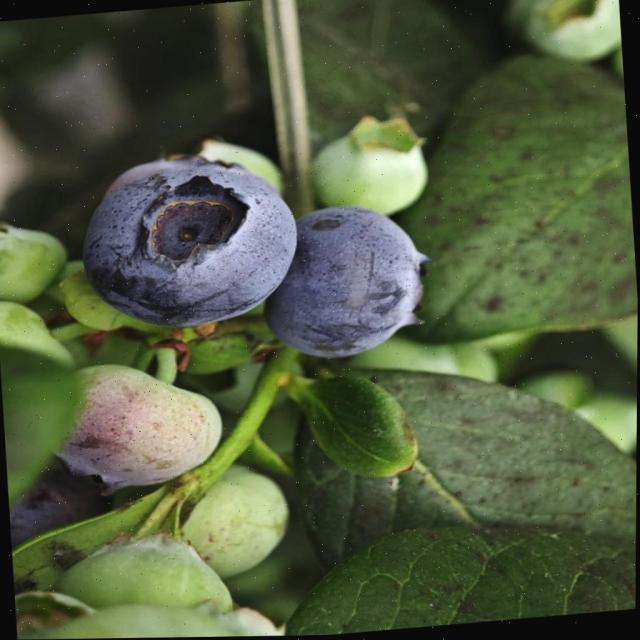RipeBlueBerry: (75, 148, 309, 338), (258, 197, 440, 367)
Semi-RipeBlueBerry: (50, 351, 232, 498)
